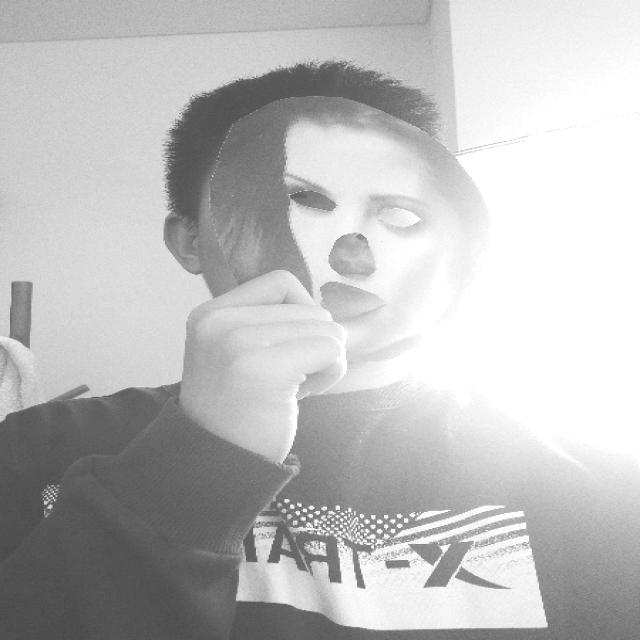fake: (204, 93, 494, 364)
